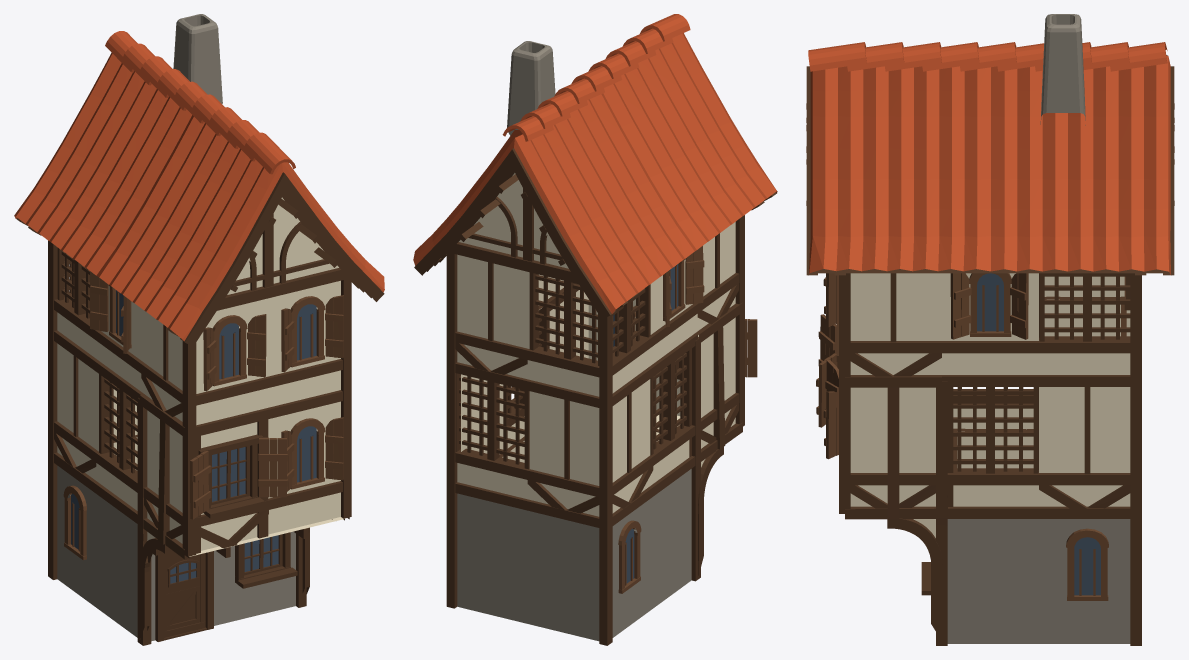
Rendered from townhouse_narrow.obj.
3 renders of one model, left to right at view 1: azimuth 30°, elevation 25°; view 2: azimuth 150°, elevation 25°; view 3: azimuth 270°, elevation 25°, orthographic. The views are drawn at different scales.
Size of the model in its own units: 5.51 by 13.64 by 7.59.
